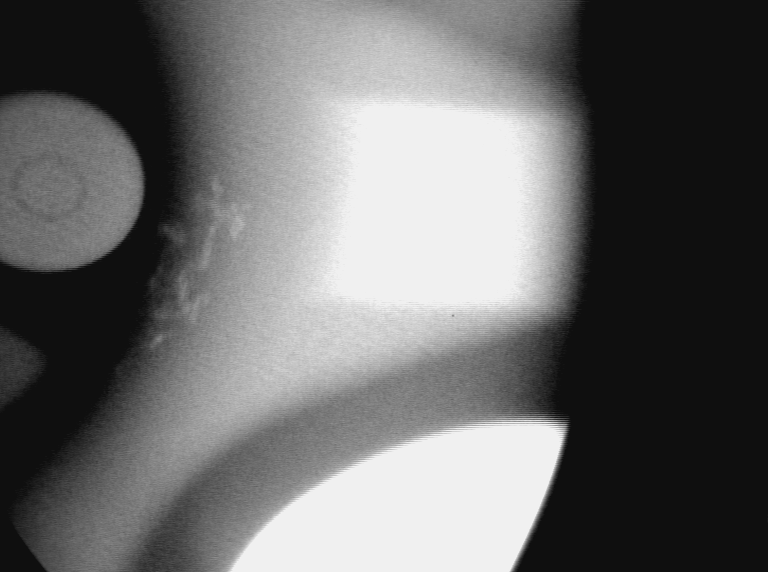defect: (110, 353, 141, 378)
